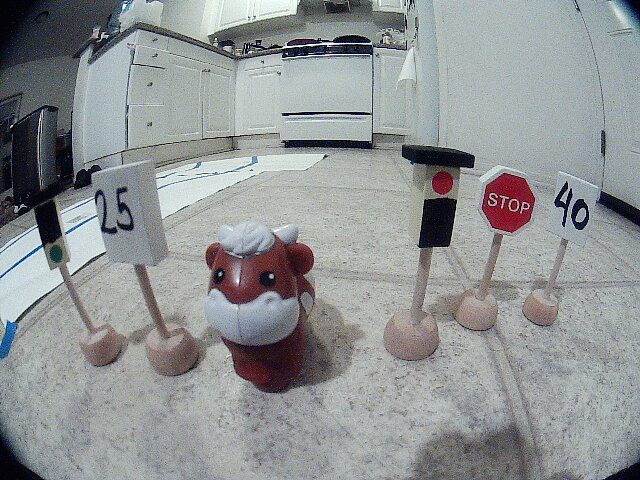Cow: (194, 212, 343, 406)
Green Traffic Light: (14, 188, 89, 279)
Red Traffic Light: (387, 128, 477, 264)
Speed Limit 25: (79, 157, 180, 281)
Speed Limit 40: (546, 163, 612, 246)
Stop Sign: (476, 159, 548, 245)
